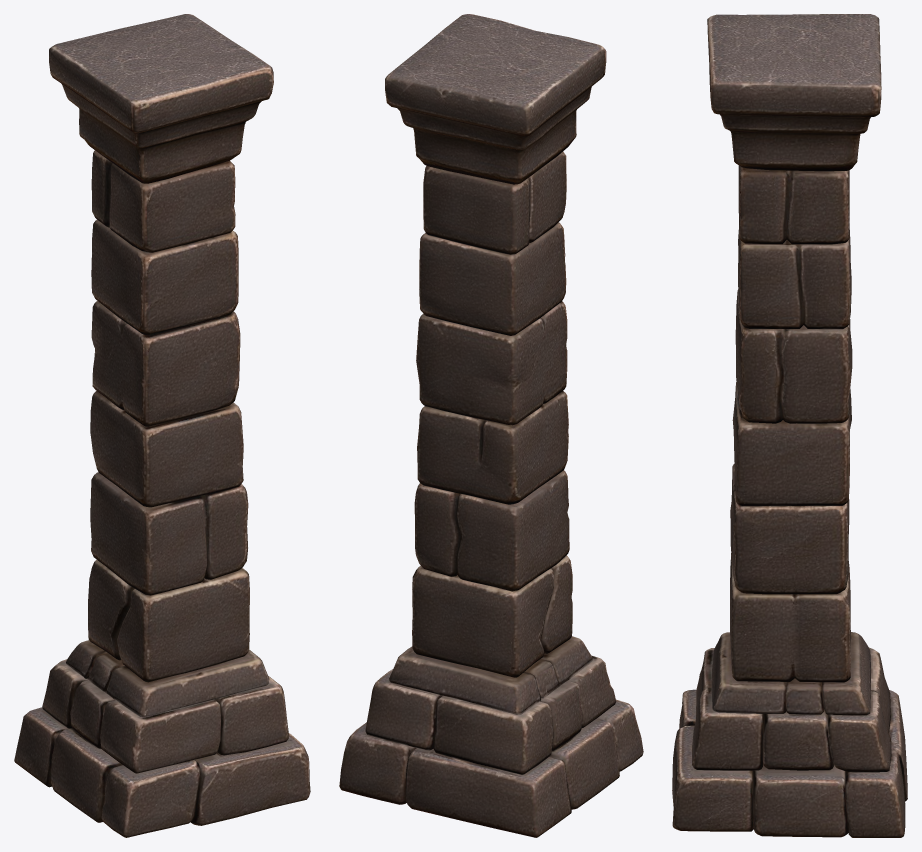
Rendered from prop_pillar.glb.
3 views of the same model, side by side, from view 1: azimuth 30°, elevation 25°; view 2: azimuth 150°, elevation 25°; view 3: azimuth 270°, elevation 25° (orthographic). The views are drawn at different scales.
Visible parts, largest first — view 1: tripo_node_07a67674-5115-4650-af3b-3bcf28e307d4; view 2: tripo_node_07a67674-5115-4650-af3b-3bcf28e307d4; view 3: tripo_node_07a67674-5115-4650-af3b-3bcf28e307d4.
Boxes of the visible parts, x1,y1,x2,y2 form: tripo_node_07a67674-5115-4650-af3b-3bcf28e307d4: (14,14,310,837); tripo_node_07a67674-5115-4650-af3b-3bcf28e307d4: (339,14,643,837); tripo_node_07a67674-5115-4650-af3b-3bcf28e307d4: (672,14,907,837).
Size of the model in its own units: 0.2915 by 0.9995 by 0.2886.
1 material, 1 textured.
